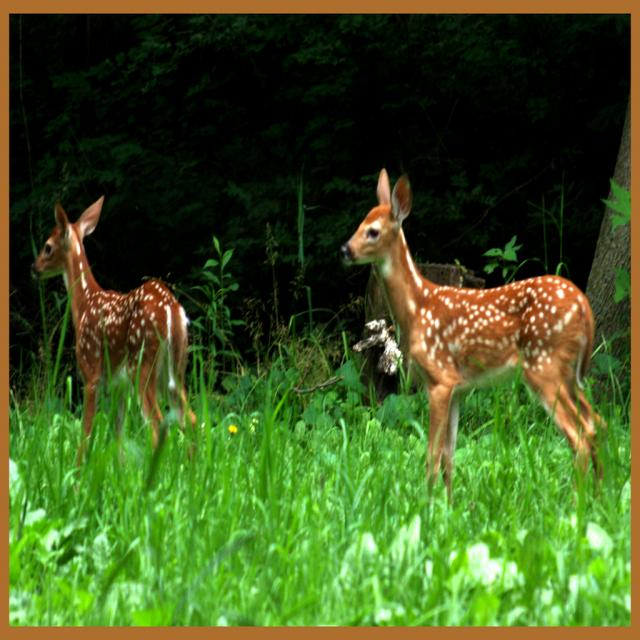Deer: (340, 167, 608, 526), (31, 194, 198, 490)
